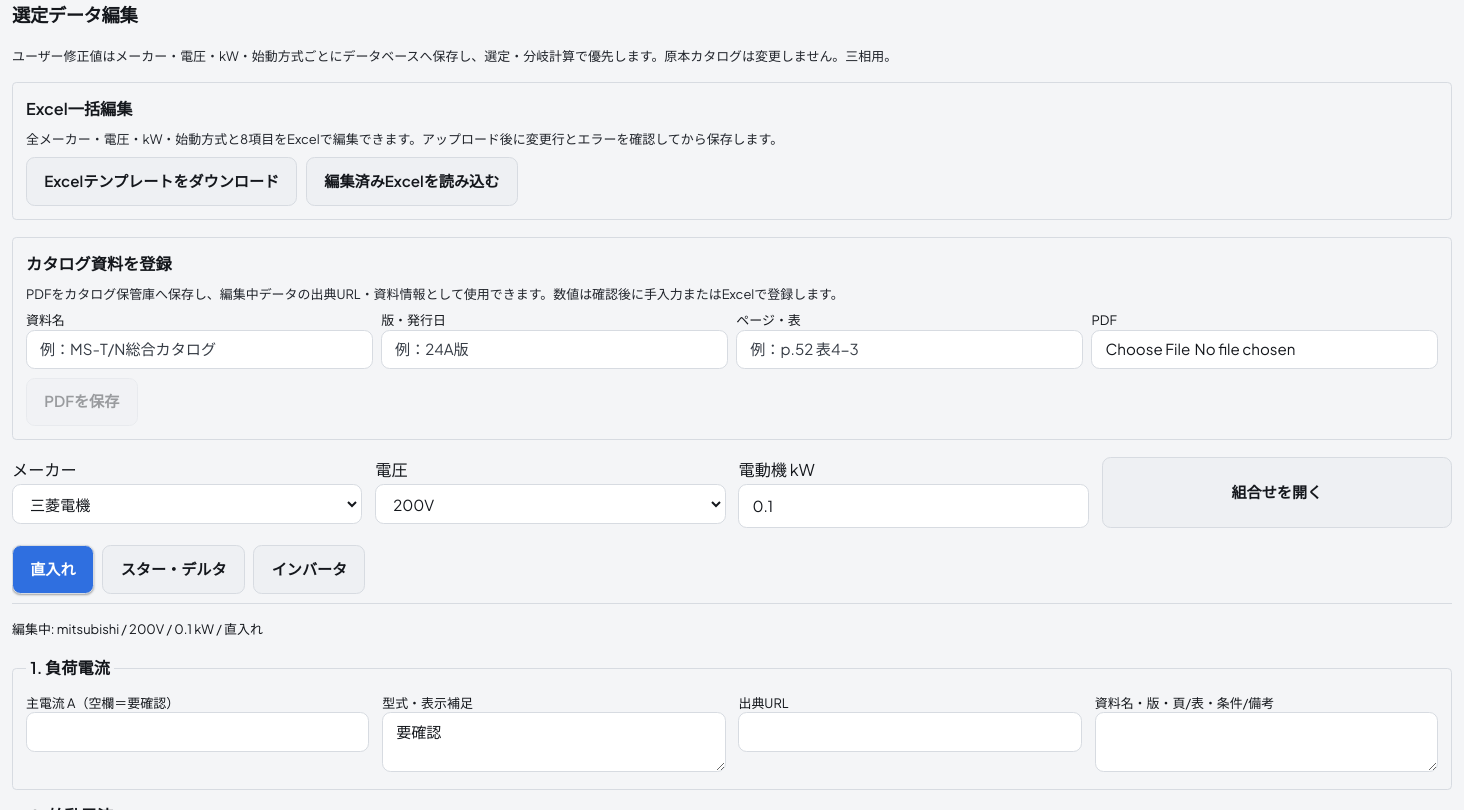
Test: selection data editor › blocks negative current before reaching persistence
The image size is (1464, 810).
In the number field labelled "主電流 A（空欄＝要確認）": (198, 732) [26,712,369,752], type "-2"
(page scrolled)
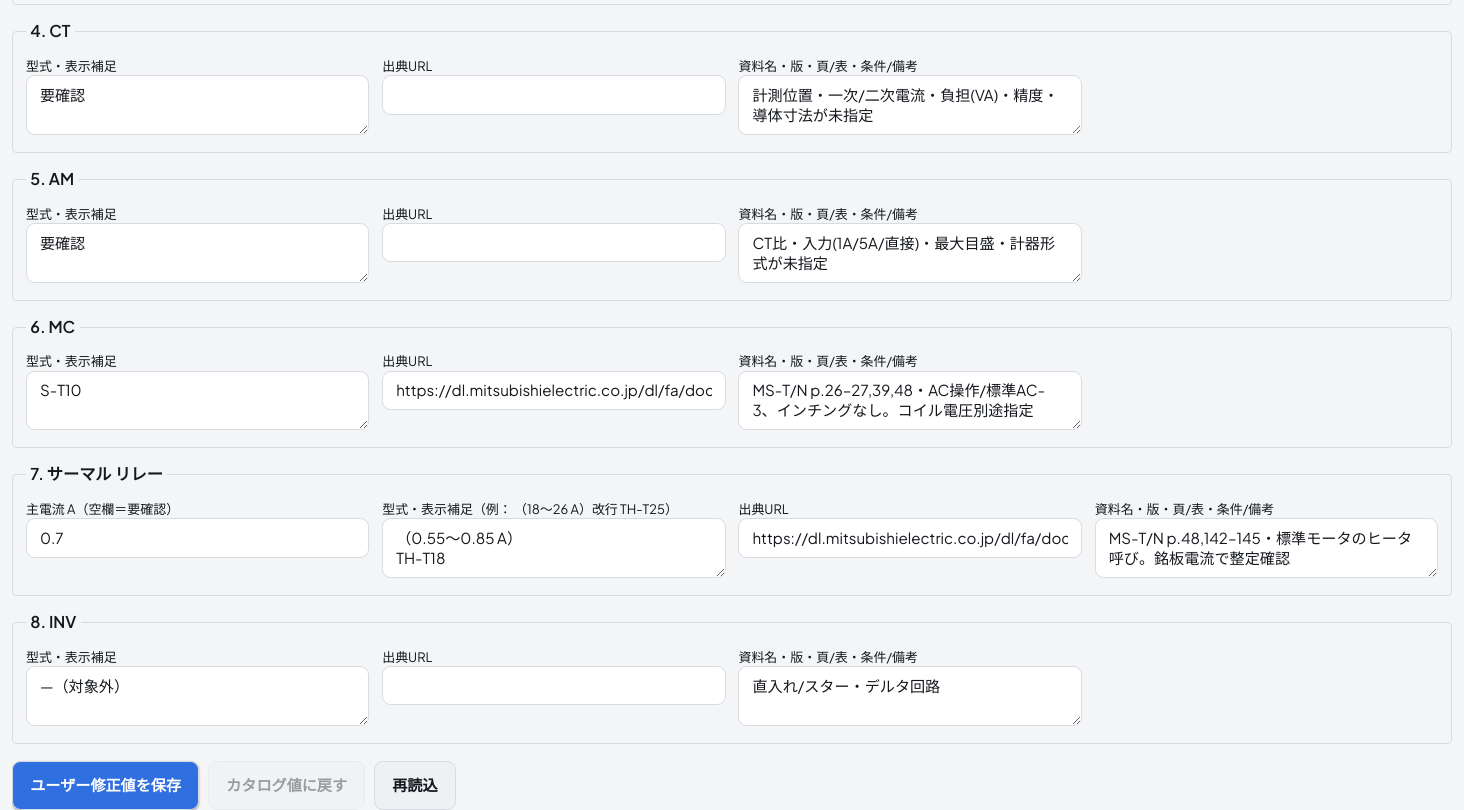
Click the button "ユーザー修正値を保存": (106, 785) [12,761,199,809]
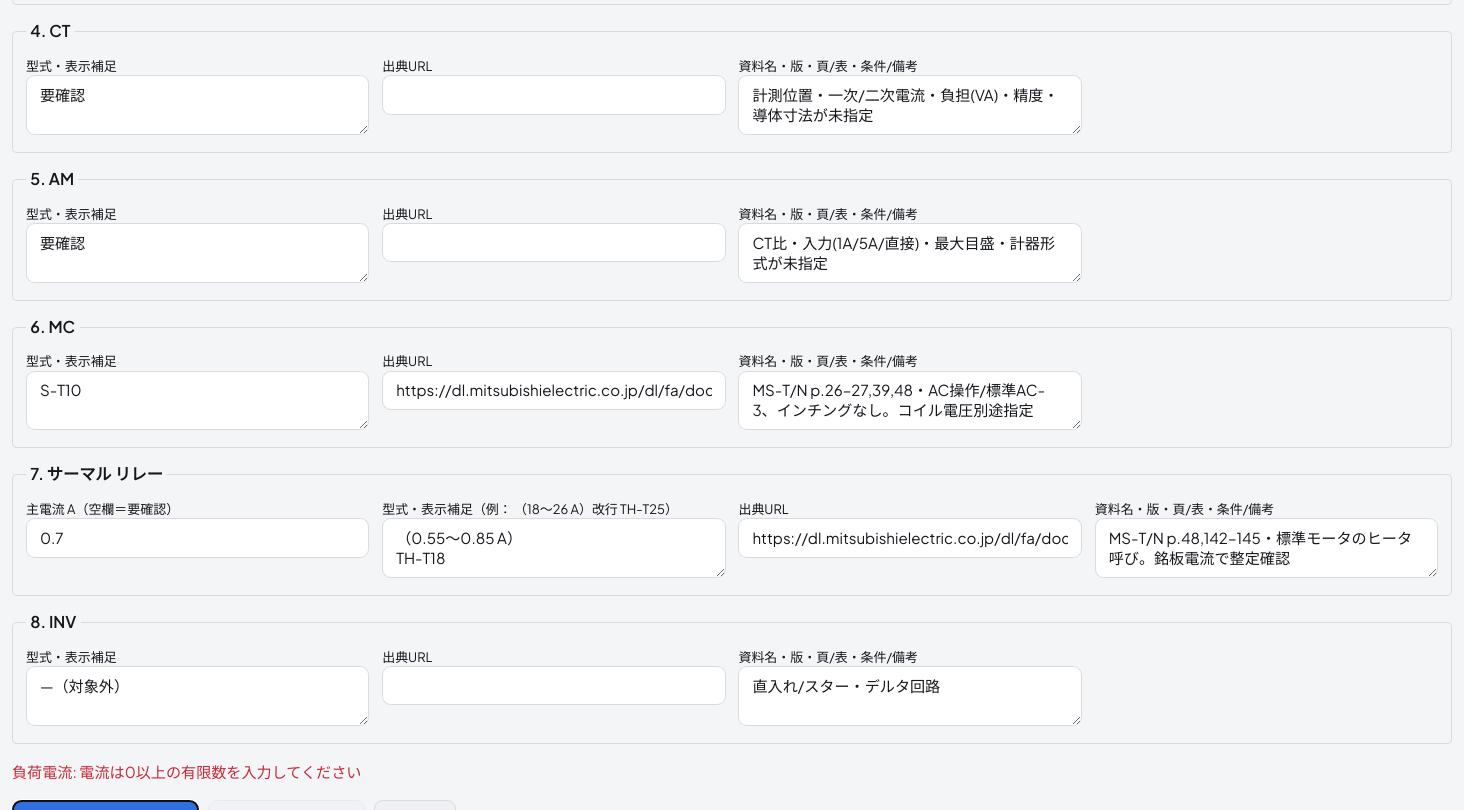
Result: the message shows "0以上" at [12,762,362,781]
